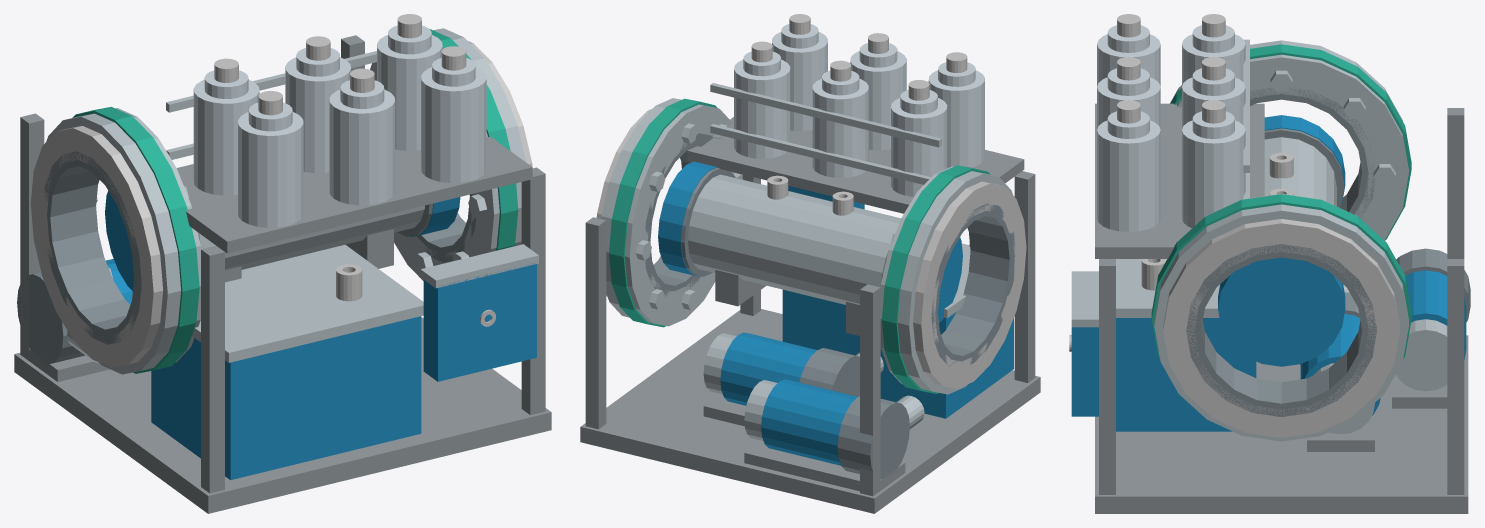
File: body.obj
3 views of the same model, side by side, from view 1: azimuth 30°, elevation 25°; view 2: azimuth 150°, elevation 25°; view 3: azimuth 270°, elevation 25° (orthographic). The views are drawn at different scales.
Bounding box in the file's own units: 1 × 0.965 × 0.945.
